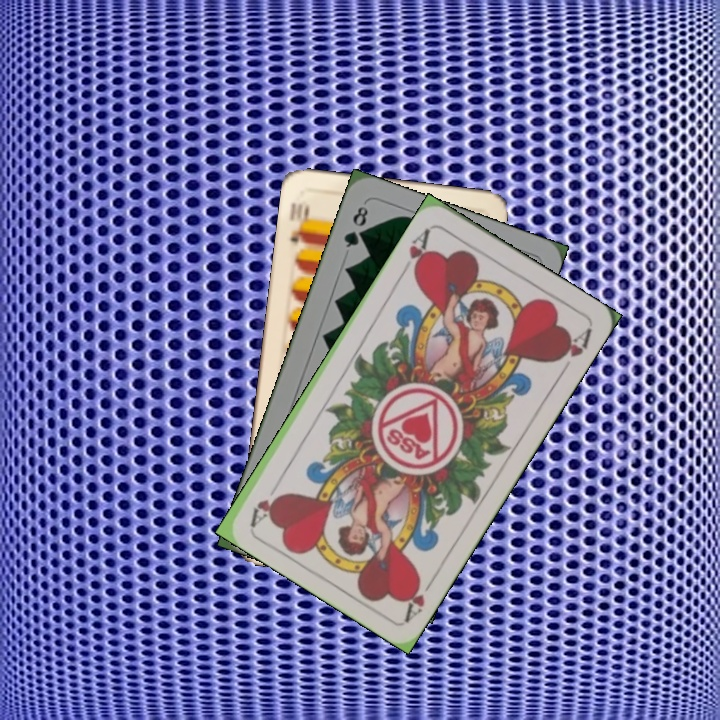E10: (285, 197, 312, 245)
G8: (339, 201, 371, 251)
HA: (400, 570, 440, 623), (404, 224, 433, 278)
